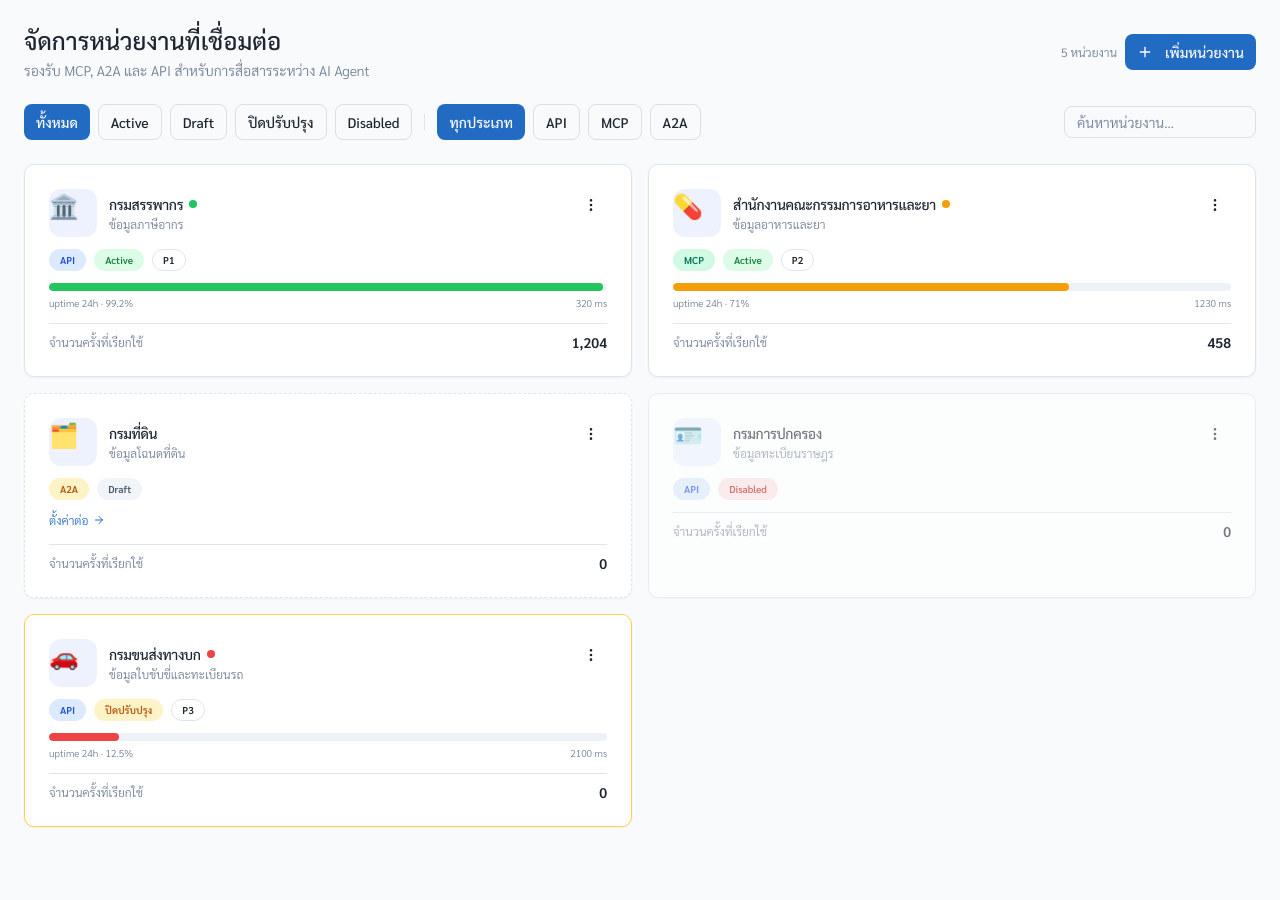
Test: AgenciesPage › filters by lifecycle state
The image size is (1280, 900).
Check: the heading "กรมสรรพากร" is shown, box [109,194,197,214]
What coordinates should you click on to do the following:
click the button "Draft"
I would click on:
 (198, 122)
Its box is [170,104,227,140].
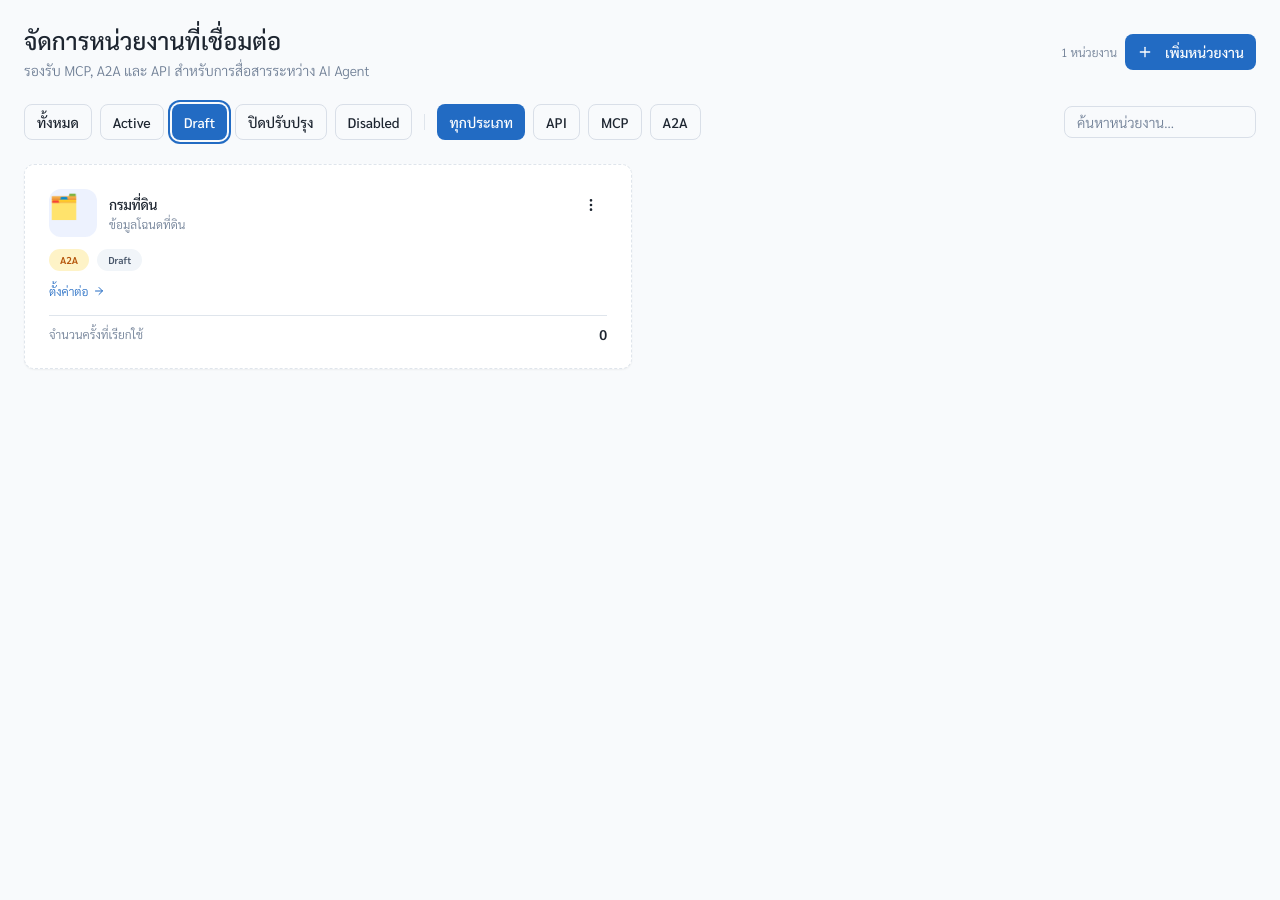
Check: the heading "กรมที่ดิน" is shown, box [109,195,157,213]
Check: the heading "กรมสรรพากร" is gone
